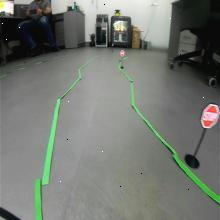stop: (200, 103, 219, 128)
